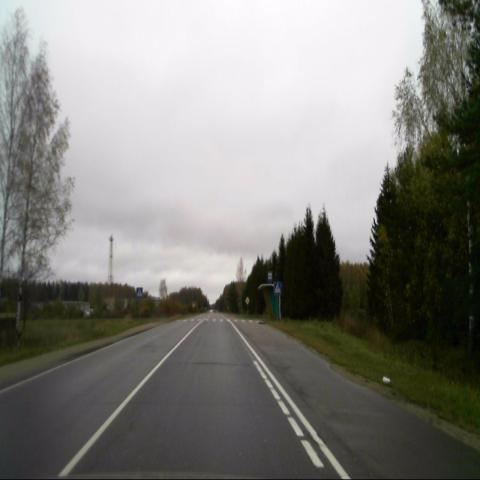5_19_1: (273, 280, 282, 297), (136, 285, 144, 299)
